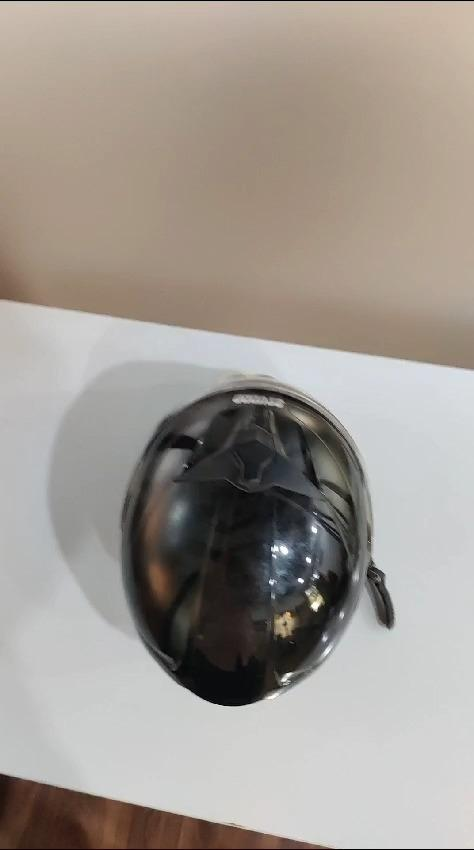Helmet: (114, 366, 404, 710)
